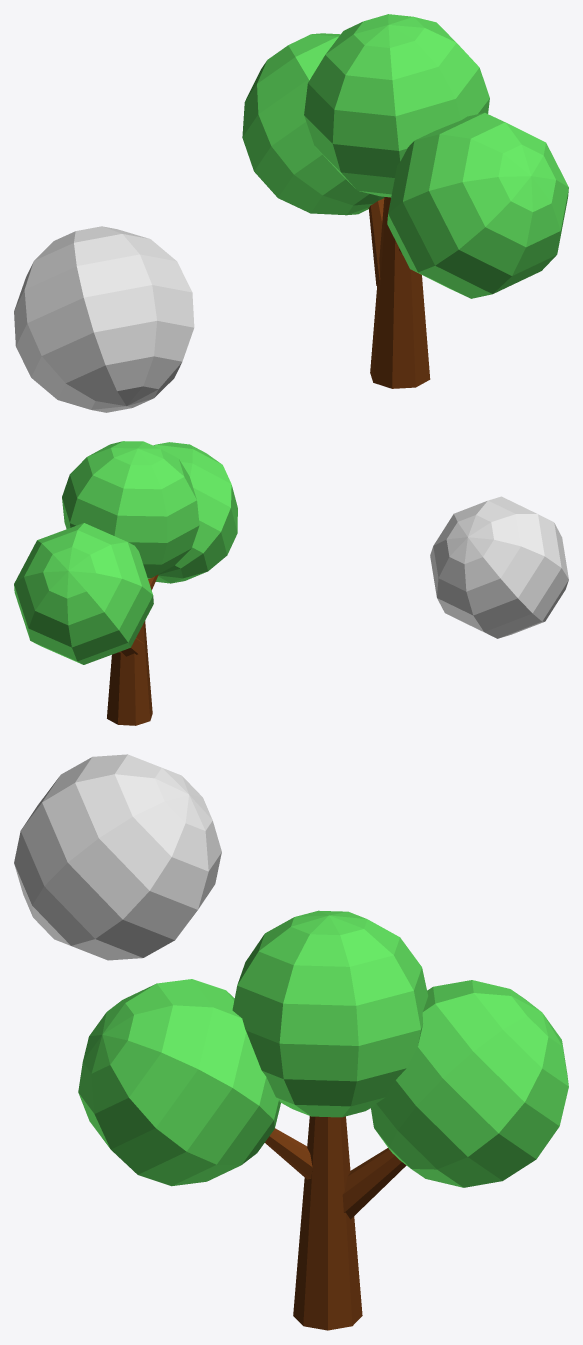
File: tree.fbx
3 renders of one model, top to bottom at view 1: azimuth 30°, elevation 25°; view 2: azimuth 150°, elevation 25°; view 3: azimuth 270°, elevation 25°, orthographic. The views are drawn at different scales.
Parts seen in each view (by area): view 1: Sphere.012, Sphere.007, Sphere.008, Sphere.009, Cylinder.006; view 2: Sphere.012, Sphere.009, Sphere.008, Sphere.007, Cylinder.006; view 3: Sphere.012, Sphere.007, Sphere.008, Sphere.009, Cylinder.006.
Boxes of the visible parts, x1=… form: Sphere.012: x1=14, y1=226, x2=194, y2=412; Sphere.007: x1=387, y1=112, x2=568, y2=298; Sphere.008: x1=304, y1=14, x2=489, y2=197; Sphere.009: x1=242, y1=33, x2=384, y2=215; Cylinder.006: x1=368, y1=197, x2=430, y2=388; Sphere.012: x1=430, y1=496, x2=568, y2=638; Sphere.009: x1=14, y1=523, x2=153, y2=664; Sphere.008: x1=62, y1=441, x2=199, y2=578; Sphere.007: x1=153, y1=442, x2=237, y2=583; Cylinder.006: x1=107, y1=574, x2=158, y2=725; Sphere.012: x1=14, y1=754, x2=221, y2=960; Sphere.007: x1=78, y1=979, x2=280, y2=1186; Sphere.008: x1=232, y1=910, x2=427, y2=1117; Sphere.009: x1=371, y1=980, x2=568, y2=1187; Cylinder.006: x1=265, y1=1116, x2=406, y2=1330.
Size of the model in its own units: 2077 by 1253 by 1599.
